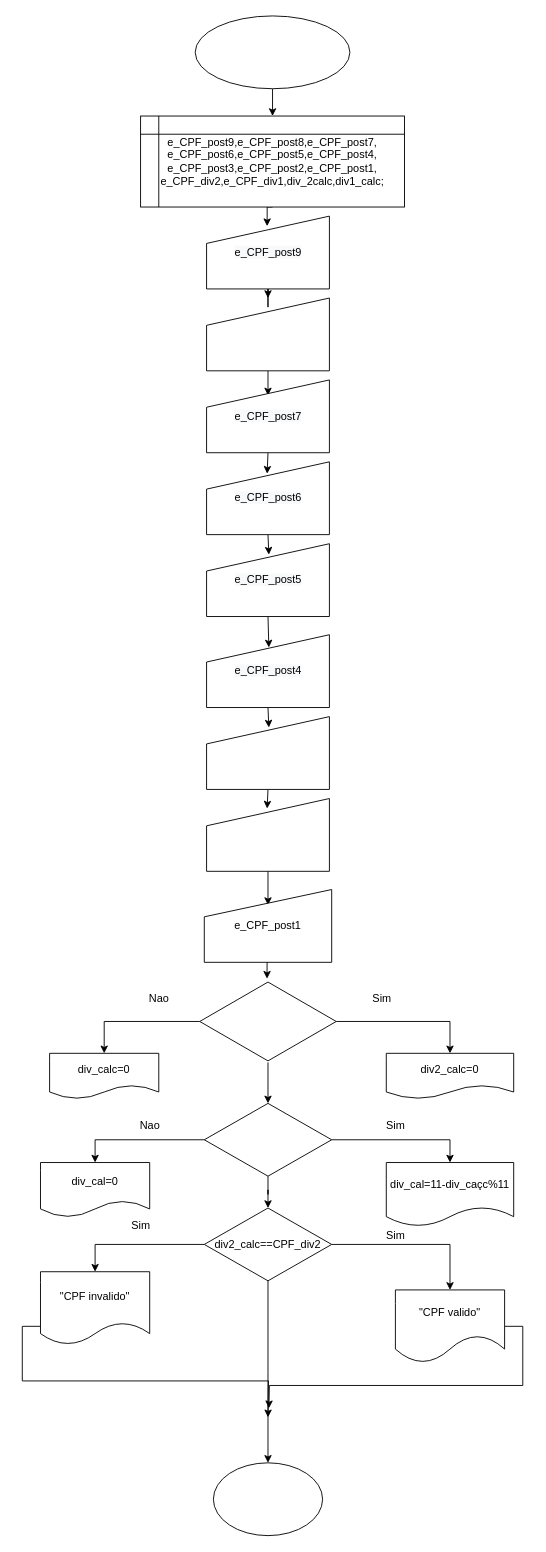
This 546x1552 diagram has some shape labels left out. The shapes that lost their labels are listed below. From the top down, each one's centre as x and y in pixels, then its label:
At point 272,52: "Inicio".
At point 267,334: "e_CPF_post8".
At point 267,752: "e_CPF_post3".
At point 267,834: "e_CPF_post2".
At point 267,1021: "div2_calc%11>2".
At point 267,1139: "div1_calc%11>2".
At point 267,1499: "End".
